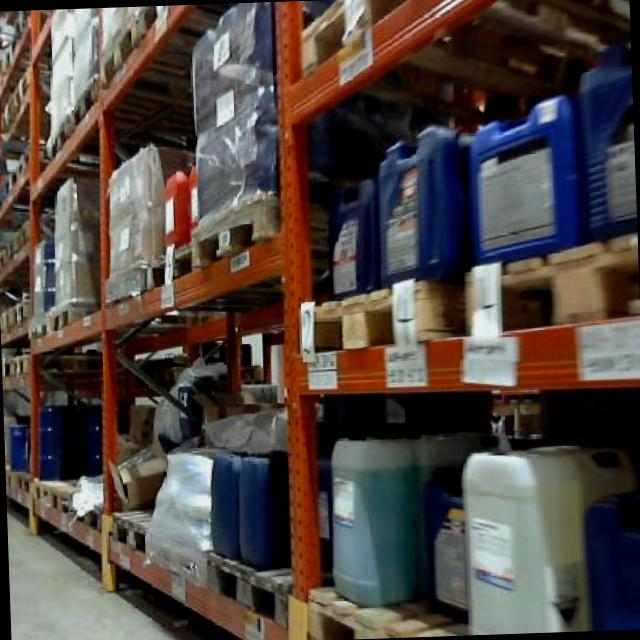pallet: (292, 231, 640, 376), (156, 206, 280, 289), (182, 549, 306, 631), (76, 16, 150, 84), (28, 471, 106, 535), (44, 308, 89, 332)
